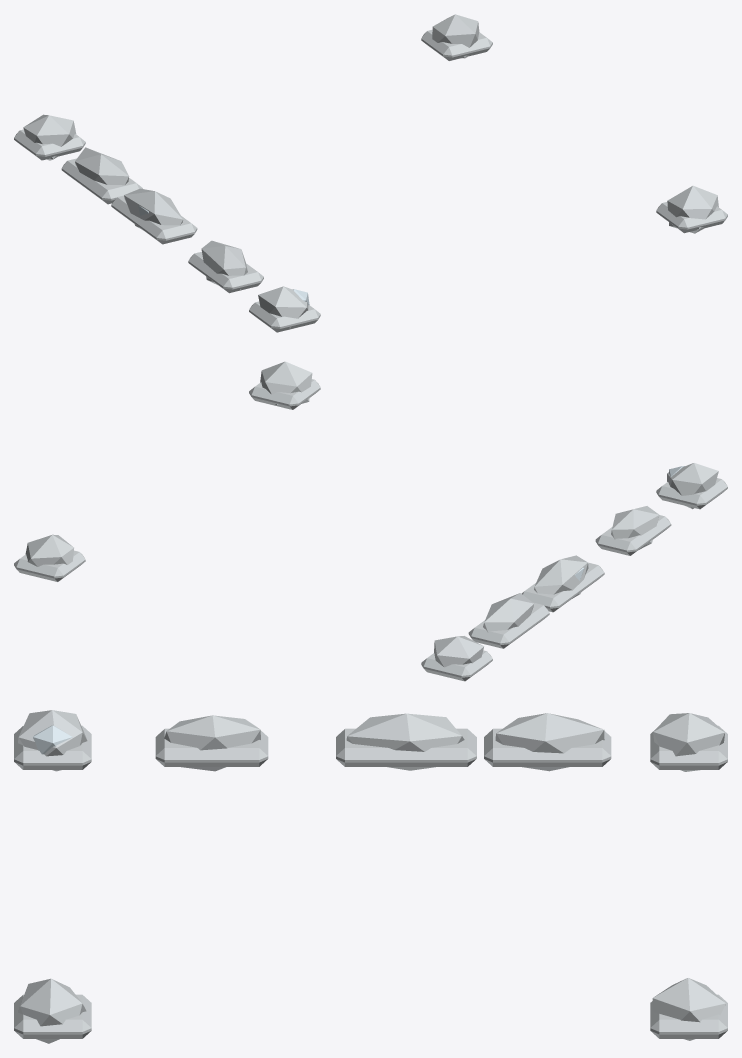
The model's file is snow_overlay_path_junction_t.glb.
3 renders of one model, top to bottom at view 1: azimuth 30°, elevation 25°; view 2: azimuth 150°, elevation 25°; view 3: azimuth 270°, elevation 25°, orthographic. The views are drawn at different scales.
Parts seen in each view (by area): view 1: snow_overlay_path_junction_t; view 2: snow_overlay_path_junction_t; view 3: snow_overlay_path_junction_t.
Boxes of the visible parts, box(x1,y1,x2,y2) form: snow_overlay_path_junction_t: box(14, 14, 727, 332); snow_overlay_path_junction_t: box(14, 361, 727, 681); snow_overlay_path_junction_t: box(14, 710, 727, 1043).
Size of the model in its own units: 2.02 by 0.2018 by 2.02.
